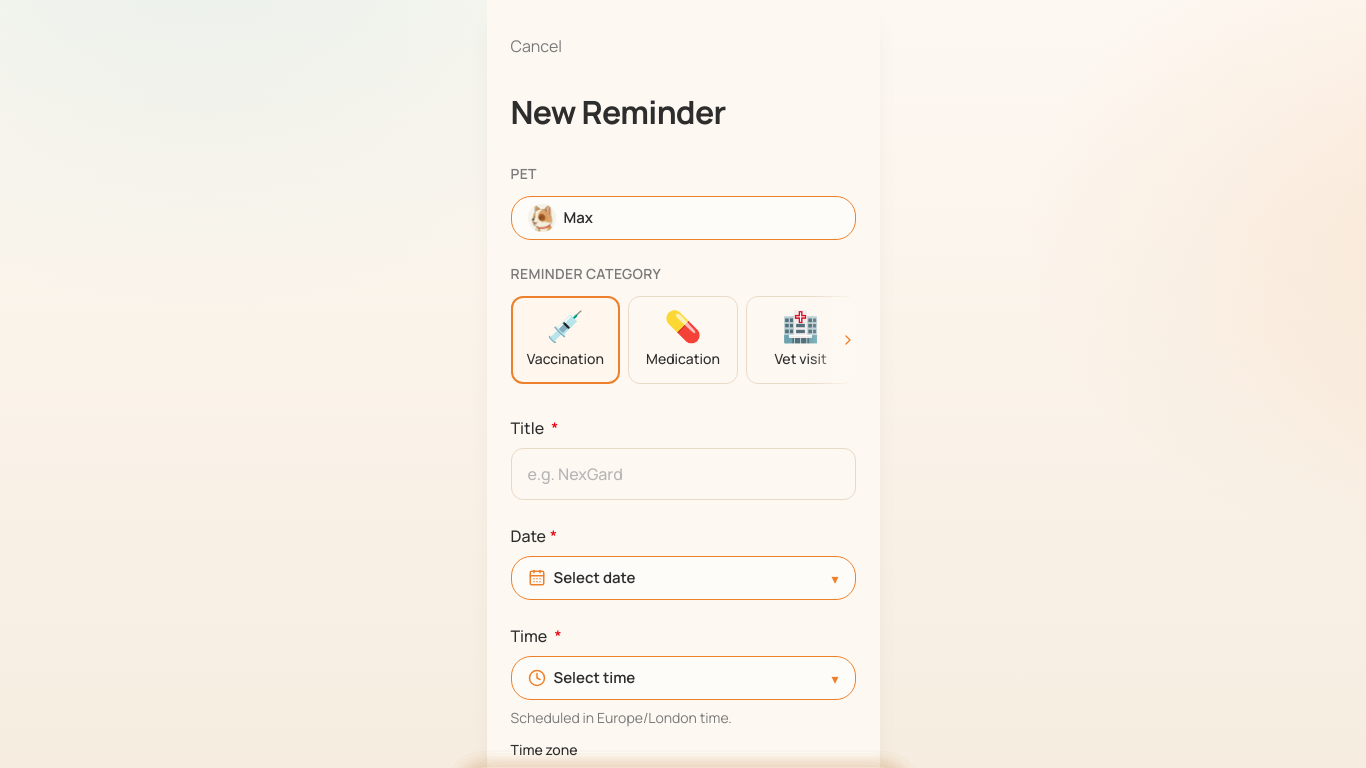
Scenario: ReminderForm › saves the reminder and handles push setup success=false
In the field labelled "Title *": (683, 474) [510,448,856,500], type "Flea treatment"
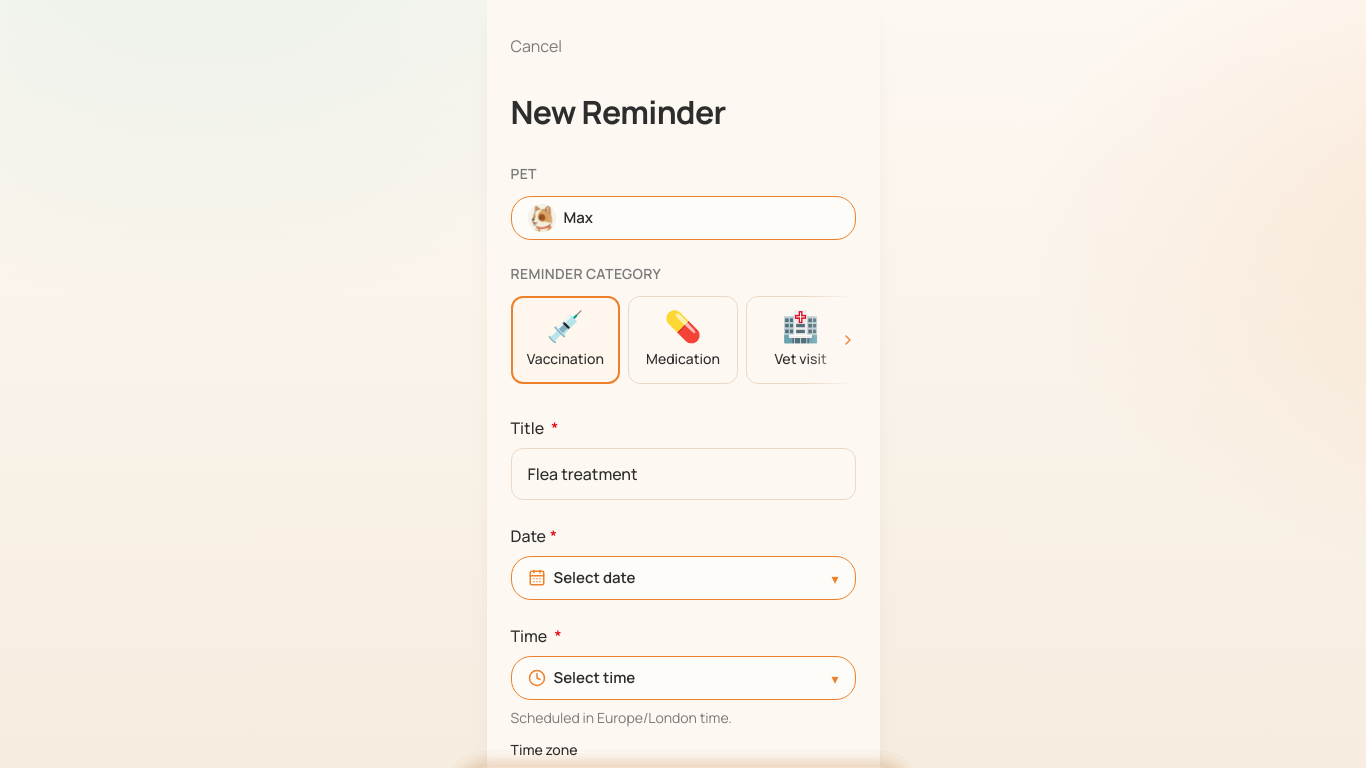
Note: Select date via DatePicker
Click the button with aria-label "Date: Select date. Tap to change.": click(594, 577) [510,556,856,600]
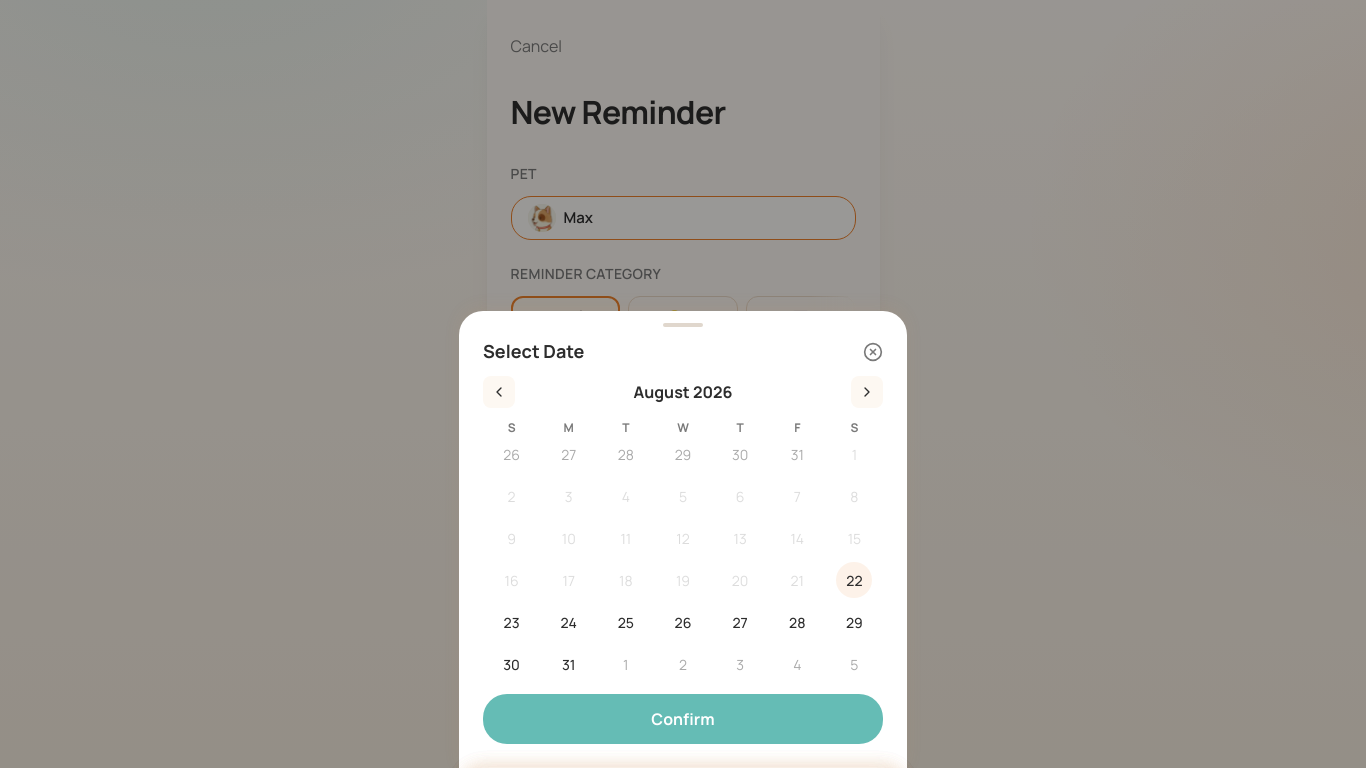
Click the button named "22 August 2026": click(854, 580) [836,562,872,598]
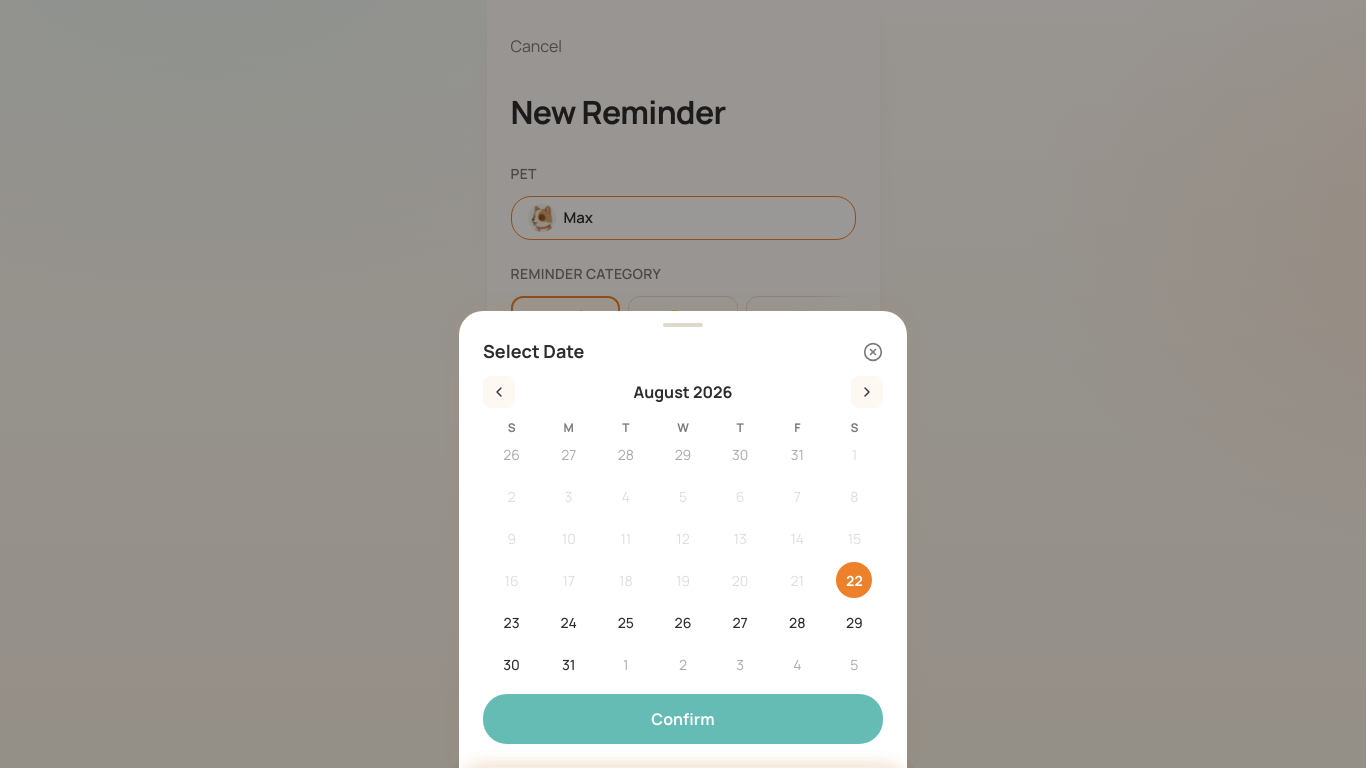
Click the button "Confirm": click(683, 719) [483,694,883,744]
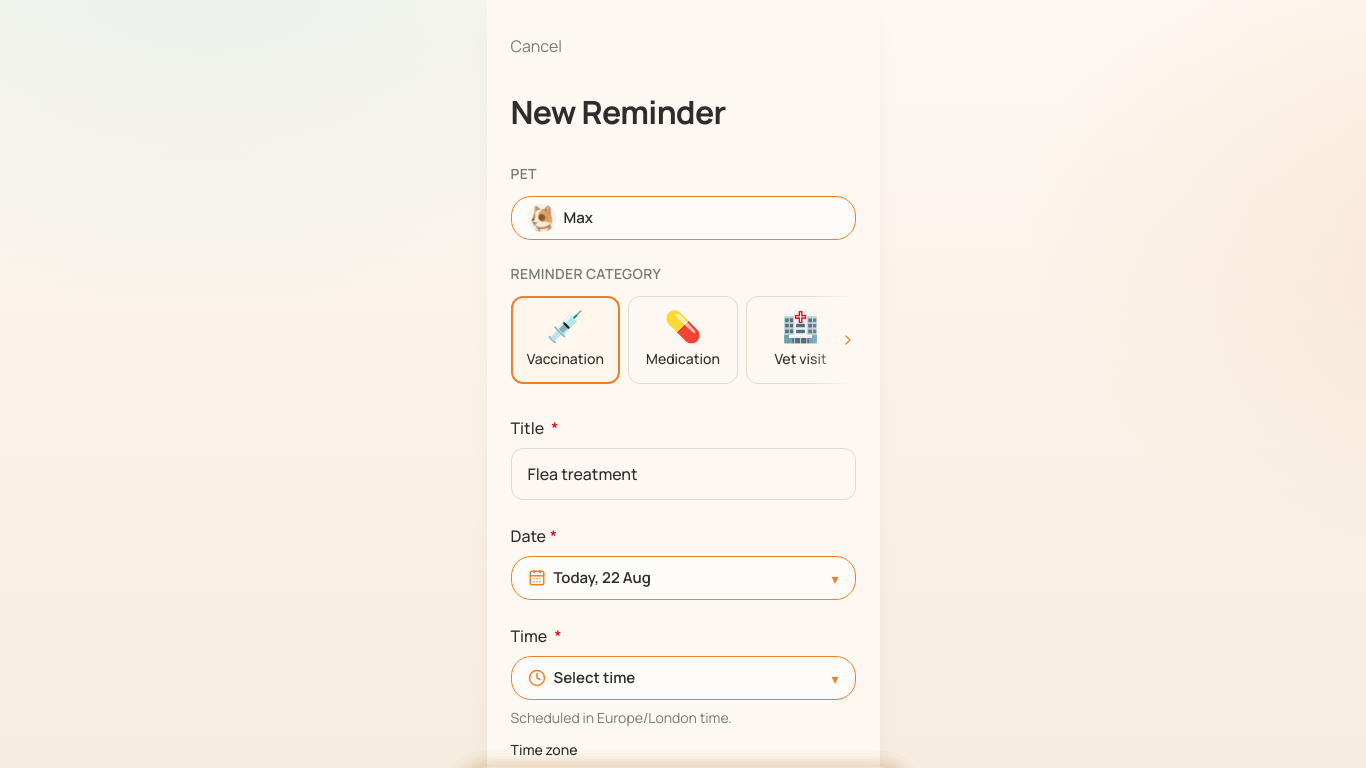
Replace the text in the time field with test id "reminder-time-input" with "19:00": (683, 678) [510,656,856,700]
(page scrolled)
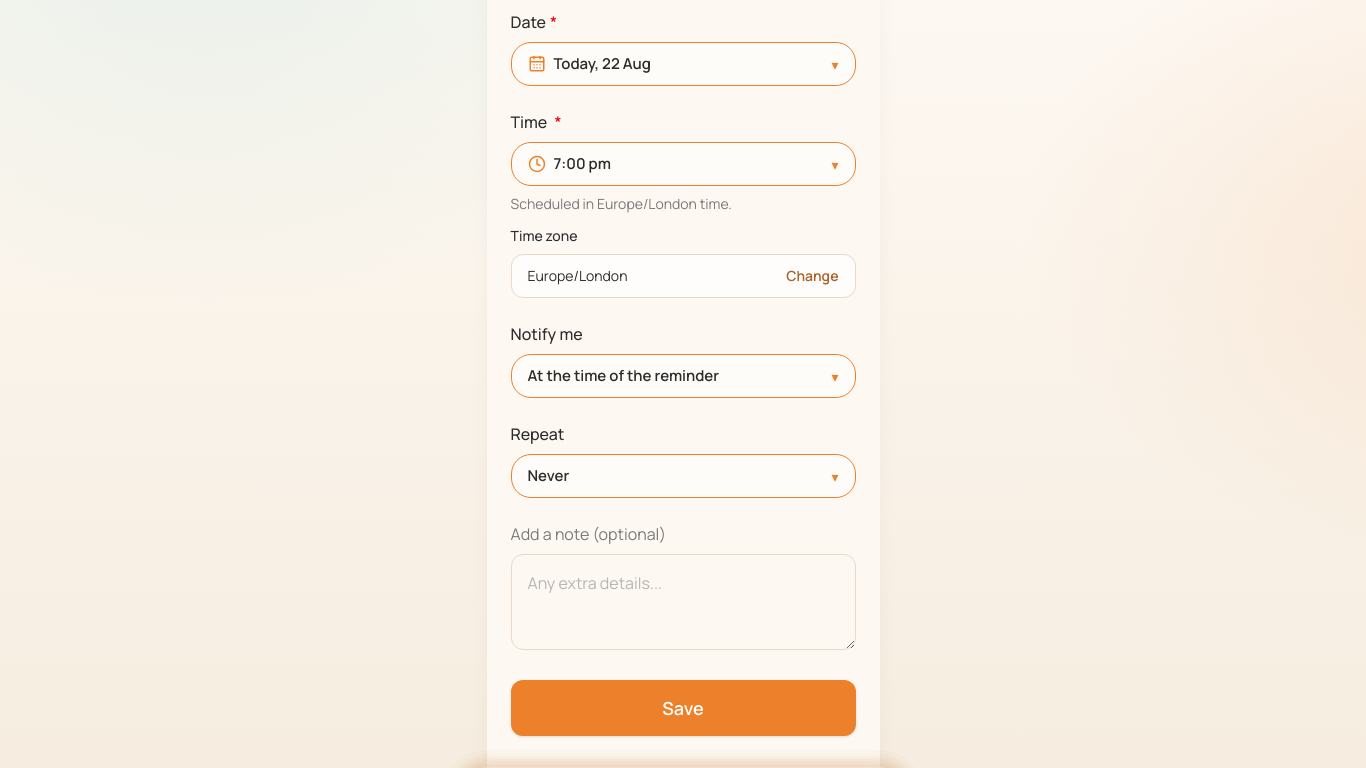
Click the button "Save": click(683, 708) [510,680,856,736]
(page scrolled)
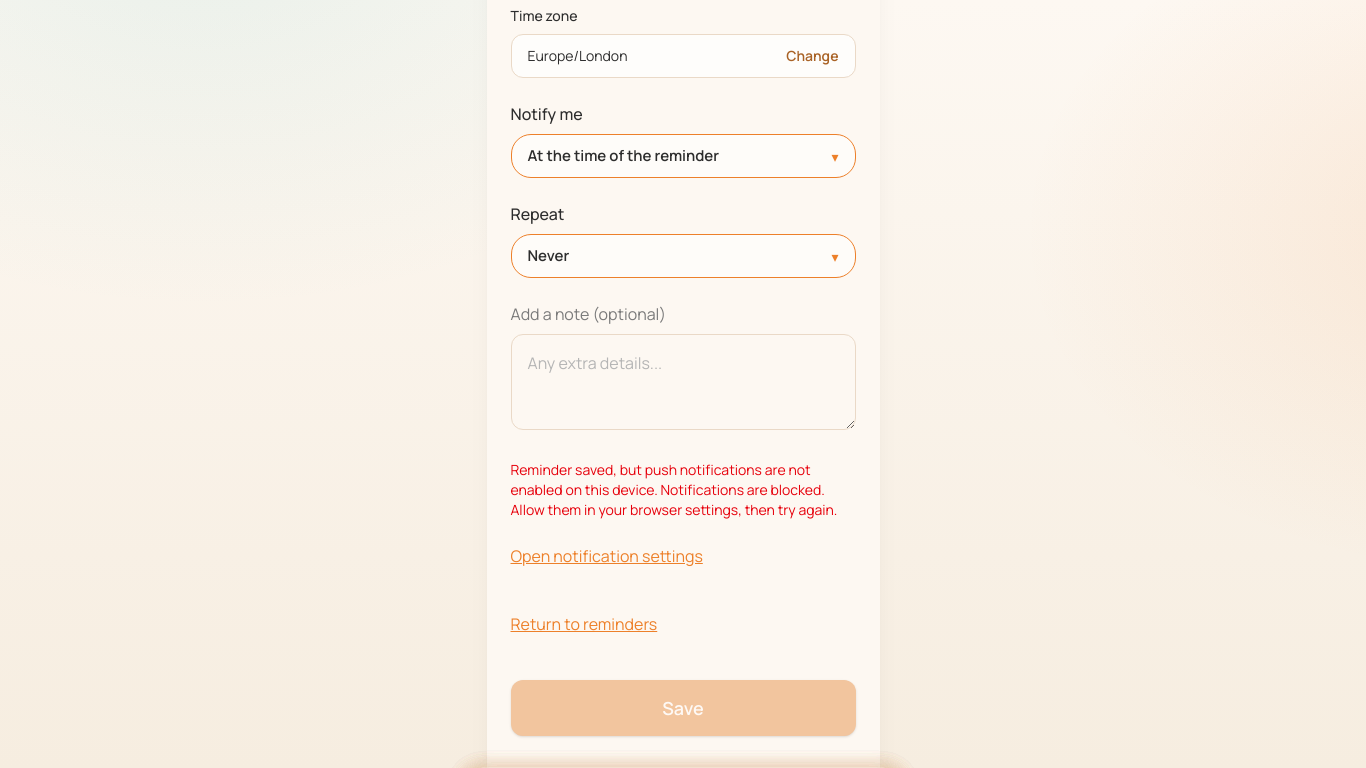
Check: the message shows "Reminder saved, but push notifications are not enabled on this device.", box [510,460,837,519]
Check: the button "Save" is disabled, box [510,680,856,736]
